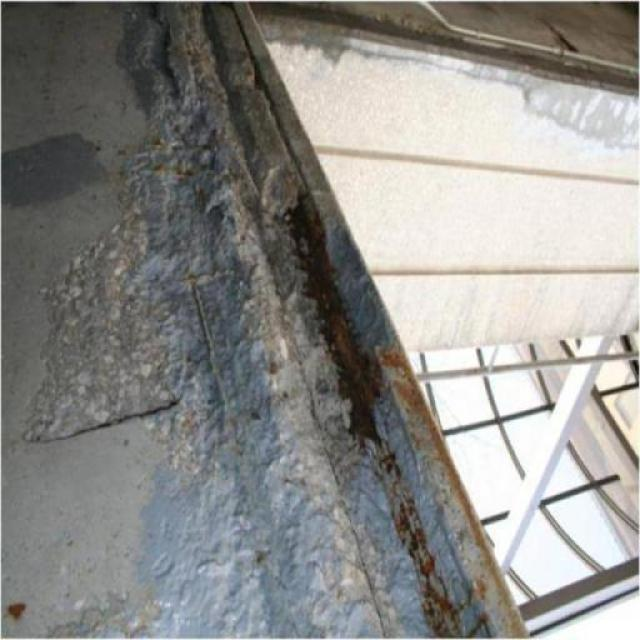D0w0: (31, 39, 530, 635)
